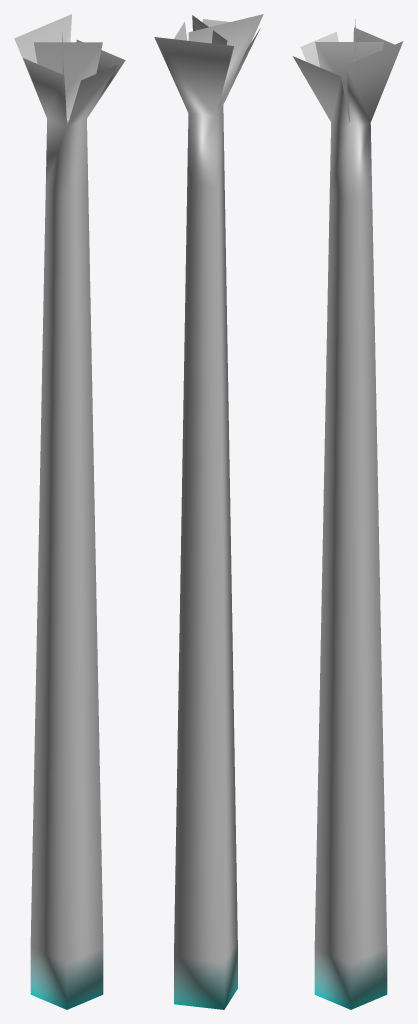
File: Lion Tail.dae
3 renders of one model, left to right at view 1: azimuth 90°, elevation 25°; view 2: azimuth 210°, elevation 25°; view 3: azimuth 270°, elevation 25°, orthographic.
Parts seen in each view (by area): view 1: Tail; view 2: Tail; view 3: Tail.
Boxes of the visible parts, bbox=[...] form: Tail: bbox=[14, 14, 125, 1009]; Tail: bbox=[154, 14, 263, 1009]; Tail: bbox=[292, 19, 403, 1009].
Size of the model in its own units: 0.1525 by 0.1428 by 1.35.
